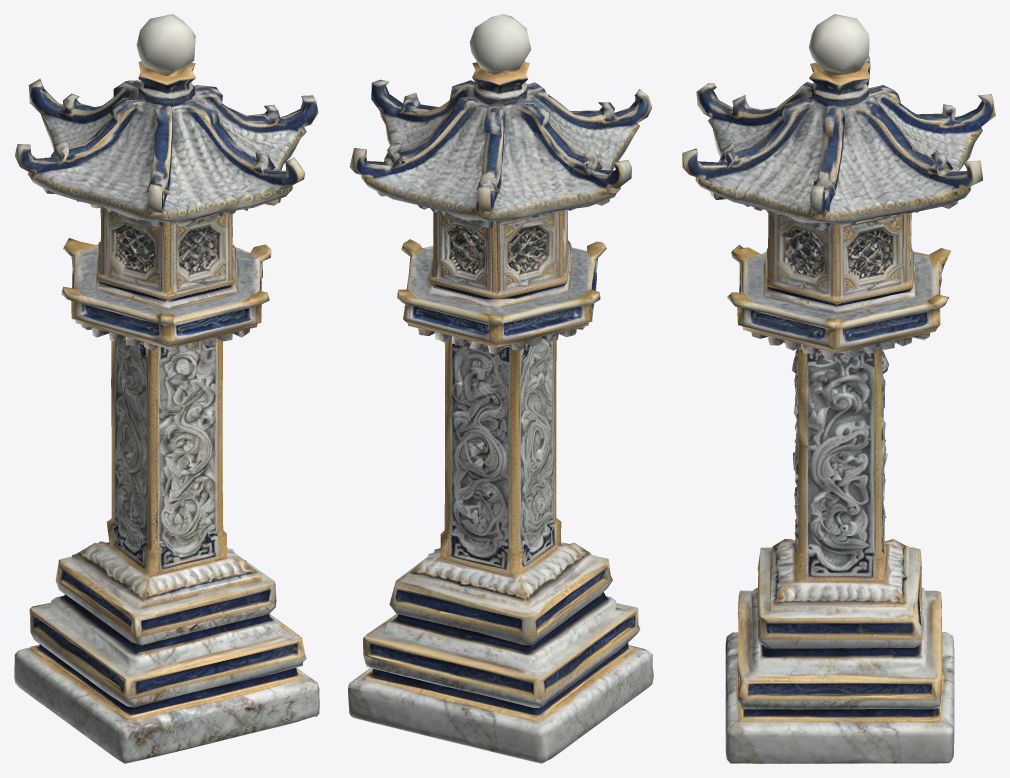
The model's file is stone_lantern.glb.
3 renders of one model, left to right at view 1: azimuth 30°, elevation 25°; view 2: azimuth 150°, elevation 25°; view 3: azimuth 270°, elevation 25°, orthographic. The views are drawn at different scales.
Parts seen in each view (by area): view 1: tripo_node_c246a646-b8d3-4665-a212-e30ffd54bd00; view 2: tripo_node_c246a646-b8d3-4665-a212-e30ffd54bd00; view 3: tripo_node_c246a646-b8d3-4665-a212-e30ffd54bd00.
Boxes of the visible parts, x1,y1,x2,y2 form: tripo_node_c246a646-b8d3-4665-a212-e30ffd54bd00: (14, 14, 319, 763); tripo_node_c246a646-b8d3-4665-a212-e30ffd54bd00: (348, 14, 653, 763); tripo_node_c246a646-b8d3-4665-a212-e30ffd54bd00: (682, 14, 995, 763).
Bounding box in the file's own units: 0.4237 × 1 × 0.4063.
Materials: 1 (1 with a texture image).
